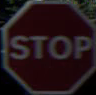Stop: (0, 9, 90, 87)
